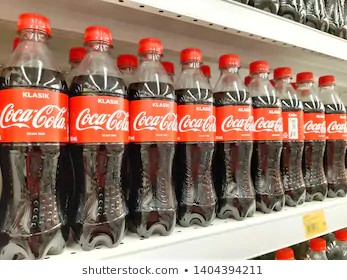coke-bottle-700ml: (1, 6, 71, 255), (71, 23, 128, 249), (171, 33, 222, 230), (129, 37, 176, 234), (246, 49, 285, 224), (219, 55, 259, 222), (295, 69, 330, 208), (318, 70, 347, 189)
